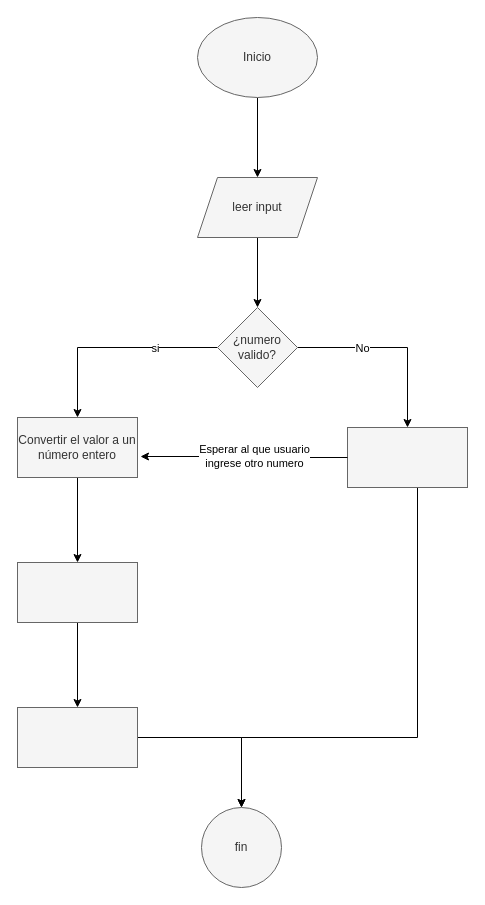
Image size: 485x905. Some labels were removed from this diagram. Each missing label, with the centre of its shape:
Calcular el factorial del número ingresado utilizando recursión: pixel 77 592
Mostrar el resultado del cálculo del factorial: pixel 77 737
Mostrar mensaje de error: "Error: favor de ingresar un numero valido.": pixel 407 457
